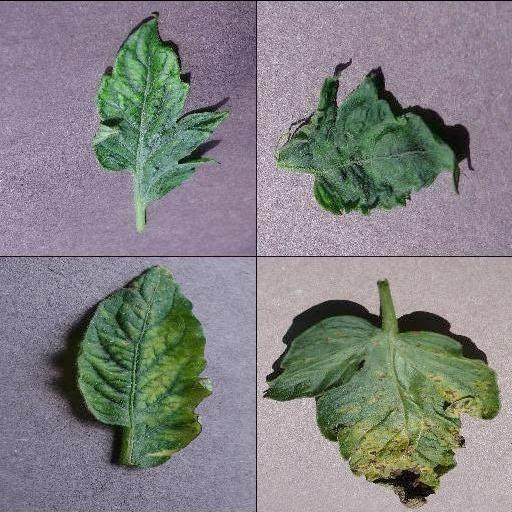Mosaic Virus: (74, 262, 214, 468), (278, 64, 462, 218), (91, 10, 229, 204)
Septoria: (263, 313, 501, 509)
